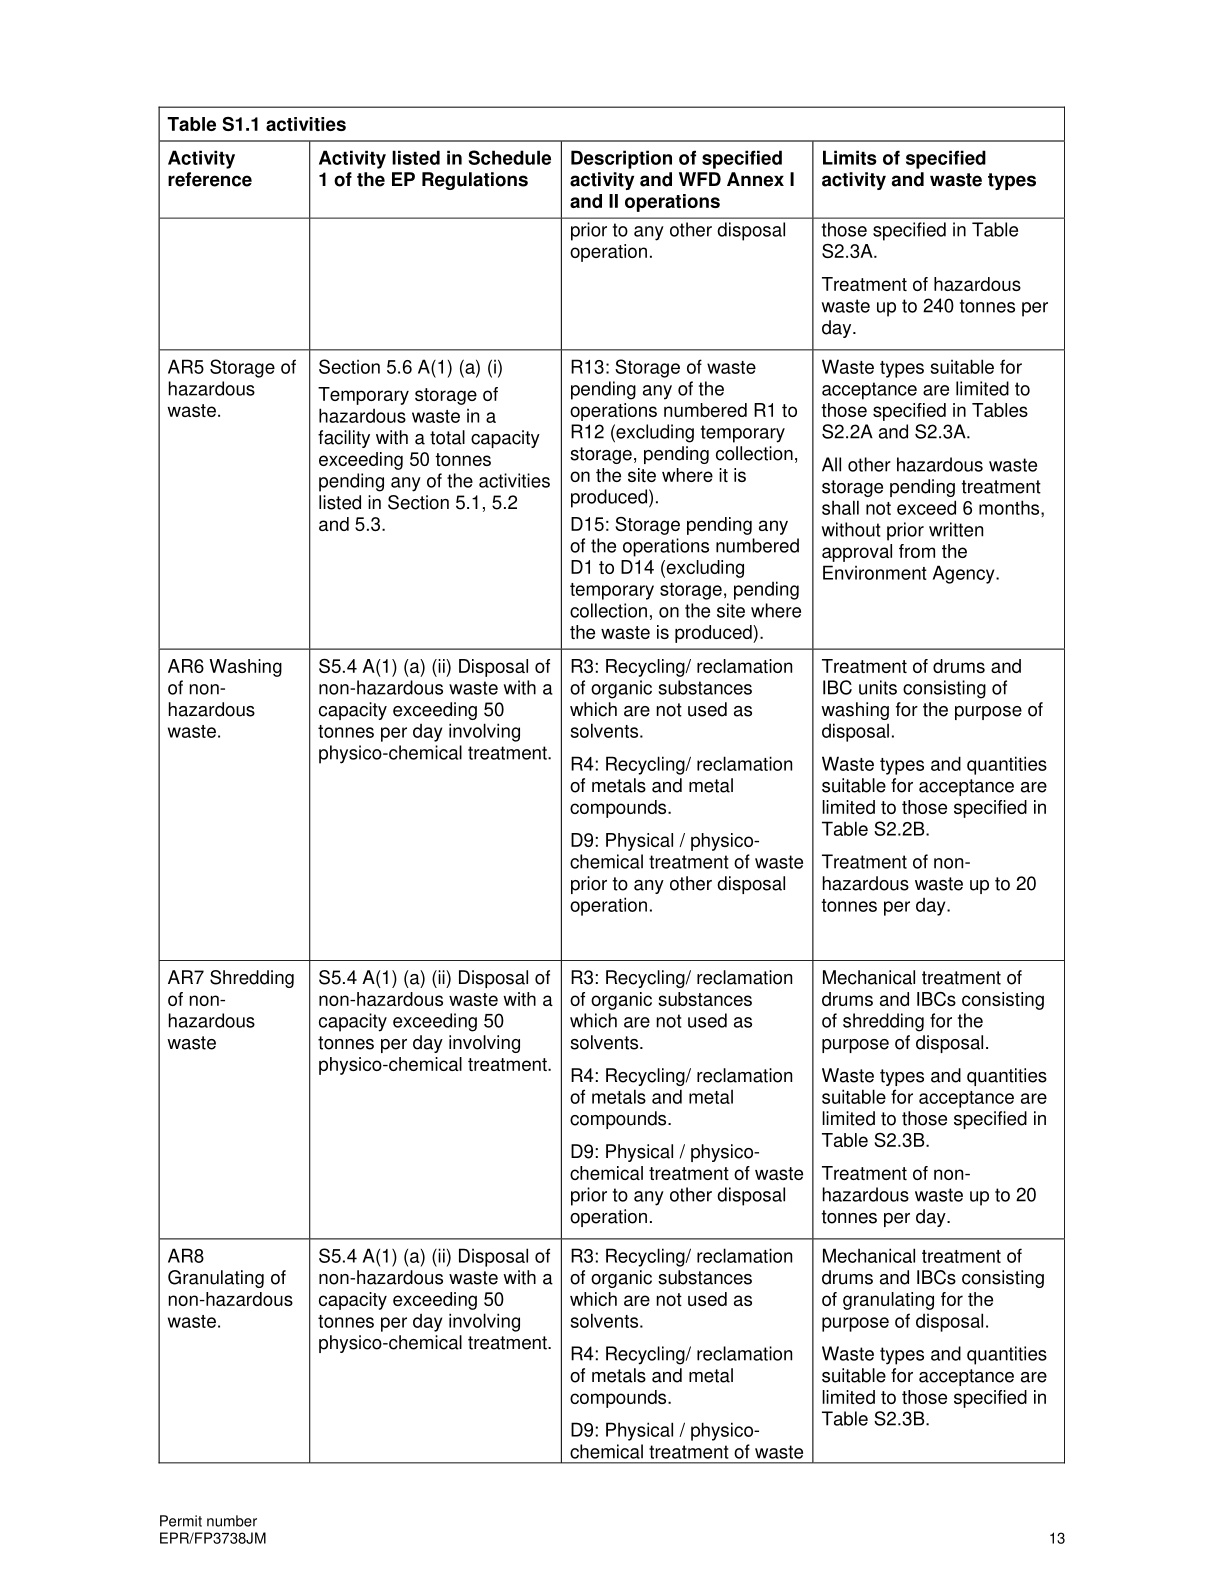merged_cells: (158, 105, 1066, 1464)
